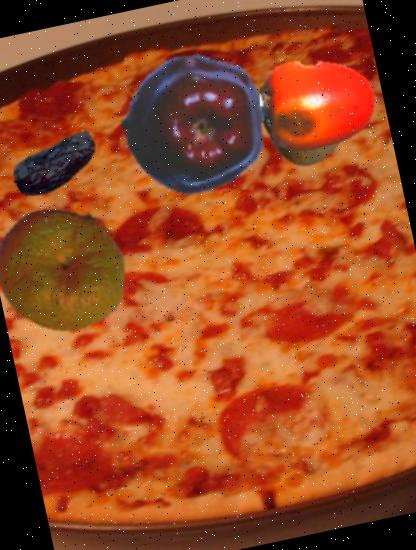Apple: (108, 40, 278, 210)
Dates: (3, 110, 111, 218)
Kaki: (248, 37, 388, 176)
Kiwi: (242, 62, 358, 176)
Mandarine: (0, 189, 142, 348)
